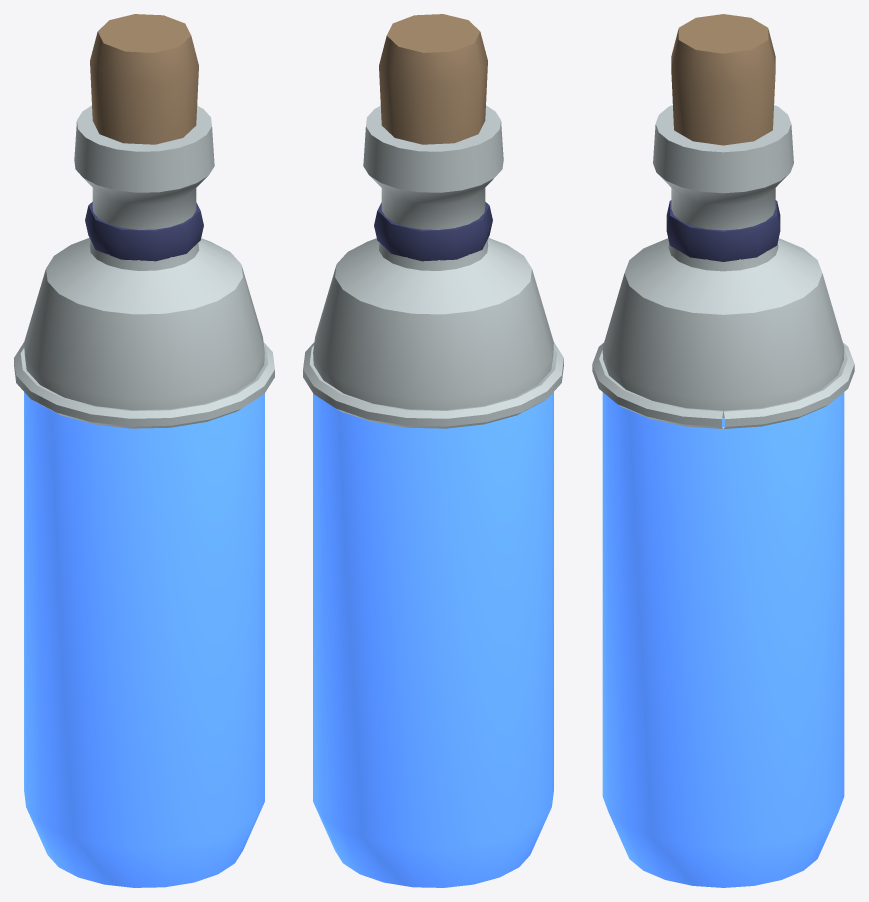
File: minor_mana_potion.glb
The picture shows the model from 3 angles, left to right: view 1: azimuth 30°, elevation 25°; view 2: azimuth 150°, elevation 25°; view 3: azimuth 270°, elevation 25°; orthographic projection.
Parts seen in each view (by area): view 1: minor_mana_potion; view 2: minor_mana_potion; view 3: minor_mana_potion.
Boxes of the visible parts, left/top/right/bottom form: minor_mana_potion: left=14, top=14, right=274, bottom=887; minor_mana_potion: left=303, top=14, right=563, bottom=887; minor_mana_potion: left=592, top=14, right=854, bottom=887.
Bounding box in the file's own units: 0.0477 × 0.163 × 0.0477.
